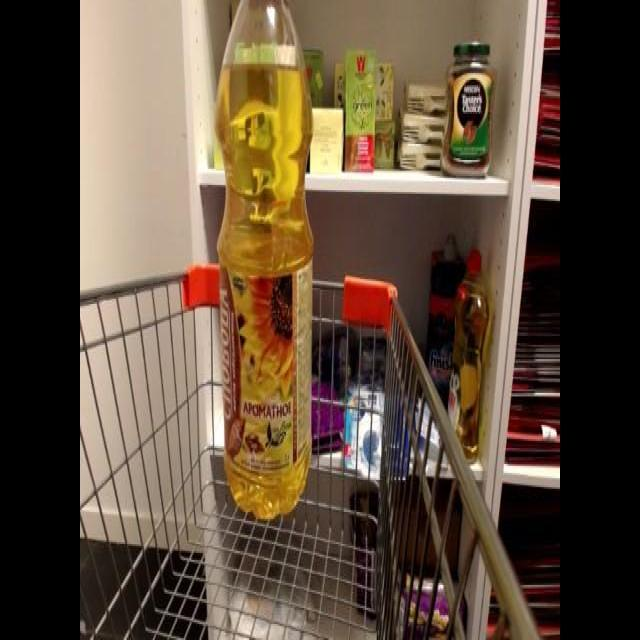Oil: (208, 1, 320, 527)
